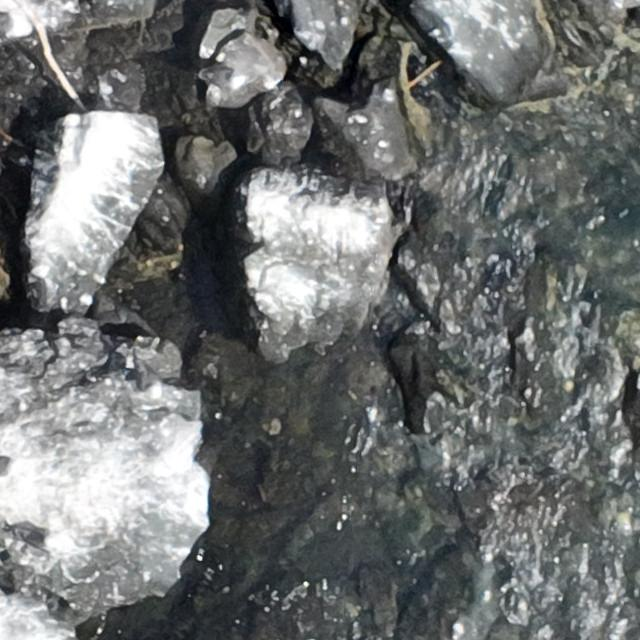umineko: (194, 65, 246, 90), (25, 528, 72, 553)
